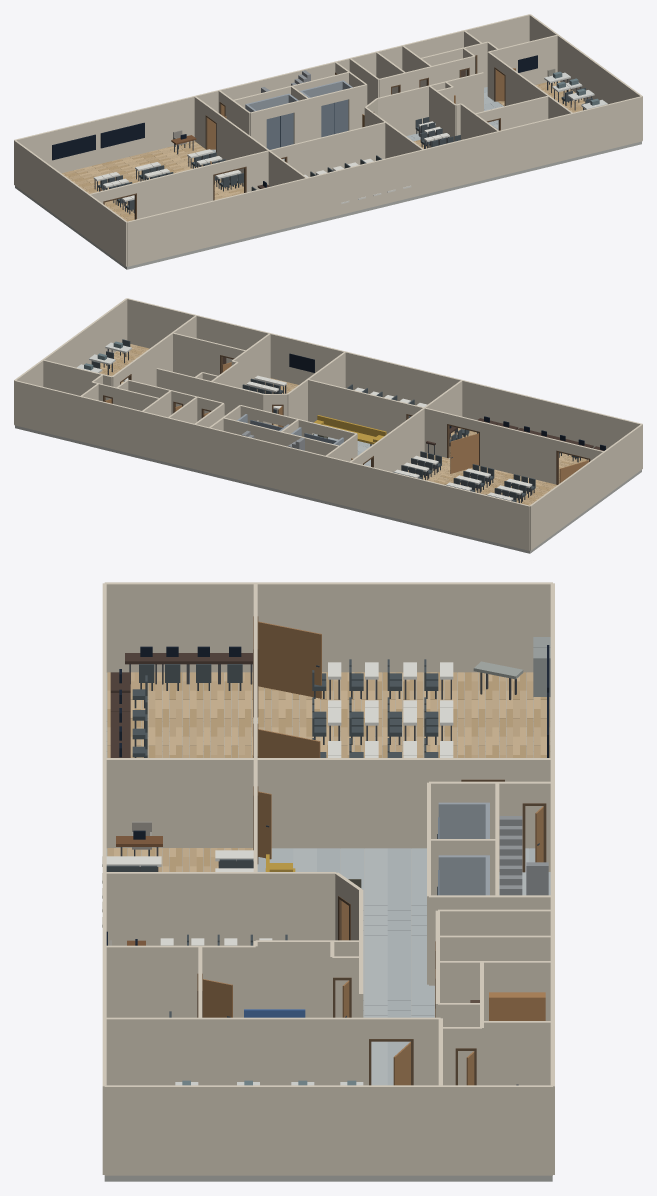
File: bau-floor-6.glb
3 renders of one model, top to bottom at view 1: azimuth 30°, elevation 25°; view 2: azimuth 150°, elevation 25°; view 3: azimuth 270°, elevation 25°, orthographic. The views are drawn at different scales.
Parts seen in each view (by area): view 1: Wall_20002, Wall_20000, Wall_20003, Wall_20005_6, Wall_20001, Wall_20025, Wall_20005_2, Wall_20004_2, Floor_slab, Wall_20019, Wall_20020_2, Wall_20009_2 (+25 smaller); view 2: Wall_20000, Wall_20002, Wall_20003, Wall_20005_2, Wall_20005_6, Wall_20001, Wall_20004_2, Wall_20025, Floor_slab, Wall_20021_2, Wall_20020_2, Wall_20019 (+13 smaller); view 3: Wall_20001, Wall_20003, Wall_20004_2, Wall_20020_2, Wall_20023, Wall_20022, Wall_20026, Wall_20016, Door_leaf_21001, Wall_20013, Floor_slab, Wall_20011 (+17 smaller).
Part boxes in pixels (box(x1,y1,x2,y2)): Wall_20002: box(127, 96, 642, 266); Wall_20000: box(14, 14, 530, 173); Wall_20003: box(14, 140, 126, 266); Wall_20005_6: box(286, 122, 385, 176); Wall_20001: box(529, 14, 642, 140); Wall_20025: box(376, 72, 483, 135); Wall_20005_2: box(136, 164, 213, 218); Wall_20004_2: box(216, 113, 306, 186); Floor_slab: box(15, 141, 641, 269); Wall_20019: box(488, 35, 557, 84); Wall_20020_2: box(505, 65, 572, 118); Wall_20009_2: box(293, 95, 321, 143); Wall_20000: box(14, 380, 529, 550); Wall_20002: box(127, 298, 642, 448); Wall_20003: box(530, 424, 642, 550); Wall_20005_2: box(480, 421, 556, 484); Wall_20005_6: box(307, 379, 406, 434); Wall_20001: box(14, 298, 127, 424); Wall_20004_2: box(372, 380, 462, 471); Wall_20025: box(156, 368, 263, 422); Floor_slab: box(15, 425, 641, 553); Wall_20021_2: box(173, 332, 220, 376); Wall_20020_2: box(130, 315, 196, 386); Wall_20019: box(43, 360, 112, 400); Wall_20001: box(104, 1085, 552, 1175); Wall_20003: box(104, 582, 552, 672); Wall_20004_2: box(105, 758, 461, 848); Wall_20020_2: box(106, 1017, 368, 1085); Wall_20023: box(104, 872, 336, 945); Wall_20022: box(105, 945, 255, 1017); Wall_20026: box(255, 940, 358, 1017); Wall_20016: box(484, 1021, 552, 1085); Door_leaf_21001: box(258, 621, 321, 698); Wall_20013: box(438, 961, 550, 1020); Floor_slab: box(104, 849, 552, 1181); Wall_20011: box(438, 909, 550, 935).
Bounding box in the file's own units: 32.91 × 2.9 × 12.48.
